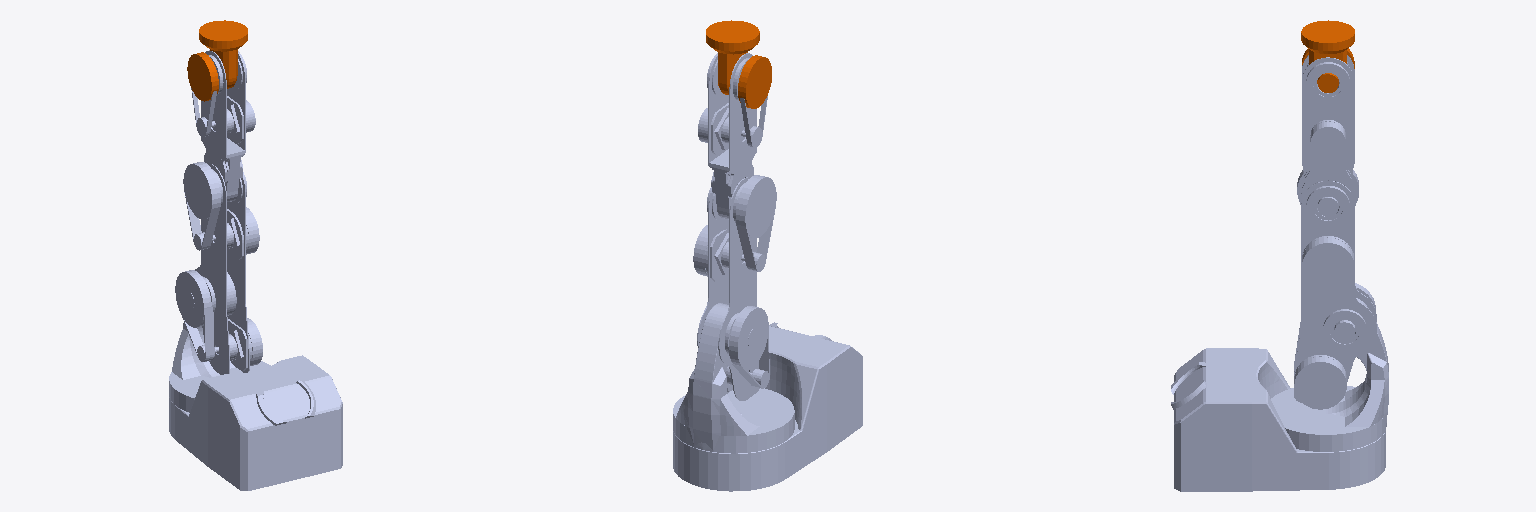
URDF robot description (rls_robot_v3):
<?xml version="1.0" encoding="utf-8"?>
<!-- =================================================================================== -->
<!-- |    This document was autogenerated by xacro from rls_robot_v3_description.urdf.xacro | -->
<!-- |    EDITING THIS FILE BY HAND IS NOT RECOMMENDED                                 | -->
<!-- =================================================================================== -->
<!-- 
	RLS robot version 3
 -->
<robot name="rls_robot_v3">
  <link name="world"/>
  <link name="base_link">
    <inertial>
      <origin rpy="0 0 0" xyz="0.00223062005049845 -0.0860921789034845 0.0653078730969134"/>
      <mass value="0.420648081913576"/>
      <inertia ixx="0.000948066990730791" ixy="4.02249708875225E-05" ixz="-7.12558942280454E-06" iyy="0.00179158550854733" iyz="8.11480789637098E-05" izz="0.00215415641805807"/>
    </inertial>
    <visual>
      <origin rpy="0 0 0" xyz="0 0 0"/>
      <geometry>
        <mesh filename="package://rls_robot_v3_description/meshes/base_link.STL"/>
      </geometry>
      <material name="">
        <color rgba="0.796078431372549 0.823529411764706 0.937254901960784 1"/>
      </material>
    </visual>
    <collision>
      <origin rpy="0 0 0" xyz="0 0 0"/>
      <geometry>
        <mesh filename="package://rls_robot_v3_description/meshes/base_link.STL"/>
      </geometry>
    </collision>
  </link>
  <joint name="joint_world" type="fixed">
    <origin rpy="0 0 0" xyz="0 0 0"/>
    <parent link="world"/>
    <child link="base_link"/>
  </joint>
  <link name="shoulder_link">
    <inertial>
      <origin rpy="0 0 0" xyz="-0.00360461983507538 0.0196243579764001 0.0549791913640194"/>
      <mass value="0.917296306384831"/>
      <inertia ixx="0.00372809822859805" ixy="2.35187675560378E-06" ixz="4.15847551263434E-05" iyy="0.00317994476286337" iyz="-0.000578843384303617" izz="0.00237331307162181"/>
    </inertial>
    <visual>
      <origin rpy="0 0 0" xyz="0 0 0"/>
      <geometry>
        <mesh filename="package://rls_robot_v3_description/meshes/shoulder_link.STL"/>
      </geometry>
      <material name="">
        <color rgba="0.796078431372549 0.823529411764706 0.937254901960784 1"/>
      </material>
    </visual>
    <collision>
      <origin rpy="0 0 0" xyz="0 0 0"/>
      <geometry>
        <mesh filename="package://rls_robot_v3_description/meshes/shoulder_link.STL"/>
      </geometry>
    </collision>
  </link>
  <joint name="joint_1" type="revolute">
    <limit effort="1.0" lower="-6.28318530718" upper="6.28318530718" velocity="1.0"/>
    <origin rpy="0 0 0" xyz="0 0 0.055"/>
    <parent link="base_link"/>
    <child link="shoulder_link"/>
    <axis xyz="0 0 1"/>
  </joint>
  <link name="elbow_link">
    <inertial>
      <origin rpy="0 0 0" xyz="0.010518 -0.023536 0.03141"/>
      <mass value="0.41022"/>
      <inertia ixx="0.00070293" ixy="-4.0883E-20" ixz="8.4717E-20" iyy="0.00058841" iyz="-1.2217E-05" izz="0.00014133"/>
    </inertial>
    <visual>
      <origin rpy="0 0 0" xyz="0 0 0"/>
      <geometry>
        <mesh filename="package://rls_robot_v3_description/meshes/elbow_link.STL"/>
      </geometry>
      <material name="">
        <color rgba="0.79608 0.82353 0.93725 1"/>
      </material>
    </visual>
    <collision>
      <origin rpy="0 0 0" xyz="0 0 0"/>
      <geometry>
        <mesh filename="package://rls_robot_v3_description/meshes/elbow_link.STL"/>
      </geometry>
    </collision>
  </link>
  <joint name="joint_2" type="revolute">
    <limit effort="1.0" lower="-2.11184839491" upper="0.314159265359" velocity="1.0"/>
    <origin rpy="0 0 0" xyz="0 0.025 0.15"/>
    <parent link="shoulder_link"/>
    <child link="elbow_link"/>
    <axis xyz="1 0 0"/>
  </joint>
  <link name="wrist_link">
    <inertial>
      <origin rpy="0 0 0" xyz="-0.00517759838399414 -1.12284313791289E-14 0.05914538962879"/>
      <mass value="0.370456595734376"/>
      <inertia ixx="0.000338616717561741" ixy="1.10349781664733E-14" ixz="-4.73908450960823E-05" iyy="0.00031647285637993" iyz="-1.23623627821828E-16" izz="0.000186630647233192"/>
    </inertial>
    <visual>
      <origin rpy="0 0 0" xyz="0 0 0"/>
      <geometry>
        <mesh filename="package://rls_robot_v3_description/meshes/wrist_link.STL"/>
      </geometry>
      <material name="">
        <color rgba="0.796078431372549 0.823529411764706 0.937254901960784 1"/>
      </material>
    </visual>
    <collision>
      <origin rpy="0 0 0" xyz="0 0 0"/>
      <geometry>
        <mesh filename="package://rls_robot_v3_description/meshes/wrist_link.STL"/>
      </geometry>
    </collision>
  </link>
  <joint name="joint_3" type="revolute">
    <limit effort="1.0" lower="-2.07694180987" upper="2.07694180987" velocity="1.0"/>
    <origin rpy="0 0 0" xyz="0 -0.022 0.18"/>
    <parent link="elbow_link"/>
    <child link="wrist_link"/>
    <axis xyz="1 0 0"/>
  </joint>
  <link name="hand_link">
    <inertial>
      <origin rpy="0 0 0" xyz="-0.00796040032027464 -1.60461921527855E-17 0.0239989336979419"/>
      <mass value="0.211251930706032"/>
      <inertia ixx="0.000213040185297751" ixy="2.98830548714608E-21" ixz="-4.03578053376338E-05" iyy="0.000236261133782809" iyz="4.38702711805866E-20" izz="0.000122829629792291"/>
    </inertial>
    <visual>
      <origin rpy="0 0 0" xyz="0 0 0"/>
      <geometry>
        <mesh filename="package://rls_robot_v3_description/meshes/hand_link.STL"/>
      </geometry>
      <material name="">
        <color rgba="0.909803921568627 0.443137254901961 0.0313725490196078 1"/>
      </material>
    </visual>
    <collision>
      <origin rpy="0 0 0" xyz="0 0 0"/>
      <geometry>
        <mesh filename="package://rls_robot_v3_description/meshes/hand_link.STL"/>
      </geometry>
    </collision>
  </link>
  <joint name="joint_4" type="revolute">
    <limit effort="1.0" lower="-1.88495559215" upper="1.88495559215" velocity="1.0"/>
    <origin rpy="0 0 0" xyz="0 0 0.18"/>
    <parent link="wrist_link"/>
    <child link="hand_link"/>
    <axis xyz="1 0 0"/>
  </joint>
  <link name="tool_link">
    <origin rpy="0 0 0" xyz="1.41495086362036E-17 4.33680868994202E-19 0.00500000000000012"/>
  </link>
  <joint name="joint_tool" type="fixed">
    <origin rpy="0 0 0" xyz="0 0 0.065"/>
    <parent link="hand_link"/>
    <child link="tool_link"/>
    <axis xyz="0 0 0"/>
  </joint>
  <!-- TRANSMISSIONS -->
  <transmission name="tran_1">
    <type>transmission_interface/SimpleTransmission</type>
    <joint name="joint_1">
      <hardwareInterface>PositionJointInterface</hardwareInterface>
    </joint>
    <actuator name="motor_1">
      <hardwareInterface>PositionJointInterface</hardwareInterface>
      <mechanicalReduction>21.66</mechanicalReduction>
    </actuator>
  </transmission>
  <transmission name="tran_2">
    <type>transmission_interface/SimpleTransmission</type>
    <joint name="joint_2">
      <hardwareInterface>PositionJointInterface</hardwareInterface>
    </joint>
    <actuator name="motor_2">
      <hardwareInterface>PositionJointInterface</hardwareInterface>
      <mechanicalReduction>20.01</mechanicalReduction>
    </actuator>
  </transmission>
  <transmission name="tran_3">
    <type>transmission_interface/SimpleTransmission</type>
    <joint name="joint_3">
      <hardwareInterface>PositionJointInterface</hardwareInterface>
    </joint>
    <actuator name="motor_3">
      <hardwareInterface>PositionJointInterface</hardwareInterface>
      <mechanicalReduction>20.01</mechanicalReduction>
    </actuator>
  </transmission>
  <transmission name="tran_4">
    <type>transmission_interface/SimpleTransmission</type>
    <joint name="joint_4">
      <hardwareInterface>PositionJointInterface</hardwareInterface>
    </joint>
    <actuator name="motor_4">
      <hardwareInterface>PositionJointInterface</hardwareInterface>
      <mechanicalReduction>18.13</mechanicalReduction>
    </actuator>
  </transmission>
</robot>

--- Render facts (derived) ---
The picture shows the robot from 3 angles, left to right: view 1: azimuth 30°, elevation 25°; view 2: azimuth 150°, elevation 25°; view 3: azimuth 270°, elevation 25°; orthographic projection.
Model rls_robot_v3 with 7 links and 6 joints (4 revolute, 2 fixed), rooted at world, posed all joints at 0.
Visible links, largest first — view 1: base_link, elbow_link, wrist_link, shoulder_link, hand_link; view 2: base_link, shoulder_link, elbow_link, wrist_link, hand_link; view 3: base_link, elbow_link, shoulder_link, wrist_link, hand_link.
Link boxes in pixels (x1,y1,x2,y2): base_link: [169, 355, 342, 490]; elbow_link: [182, 164, 262, 374]; wrist_link: [183, 50, 255, 219]; shoulder_link: [169, 270, 270, 412]; hand_link: [187, 20, 247, 101]; base_link: [673, 322, 862, 491]; shoulder_link: [673, 303, 794, 453]; elbow_link: [693, 177, 775, 400]; wrist_link: [698, 53, 776, 238]; hand_link: [706, 20, 771, 108]; base_link: [1171, 348, 1385, 491]; elbow_link: [1294, 181, 1376, 409]; shoulder_link: [1271, 283, 1388, 451]; wrist_link: [1297, 55, 1358, 216]; hand_link: [1301, 20, 1354, 92].
Bounding box of the posed robot: 0.17 × 0.2889 × 0.63 m (x, y, z).
Meshes: 5 distinct files referenced, 5 mesh visuals loaded (5 binary STL).
